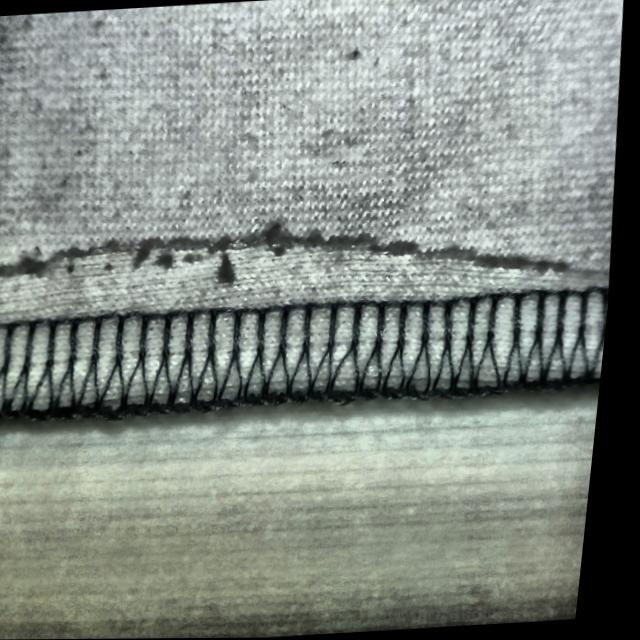seam: (0, 147, 631, 455)
